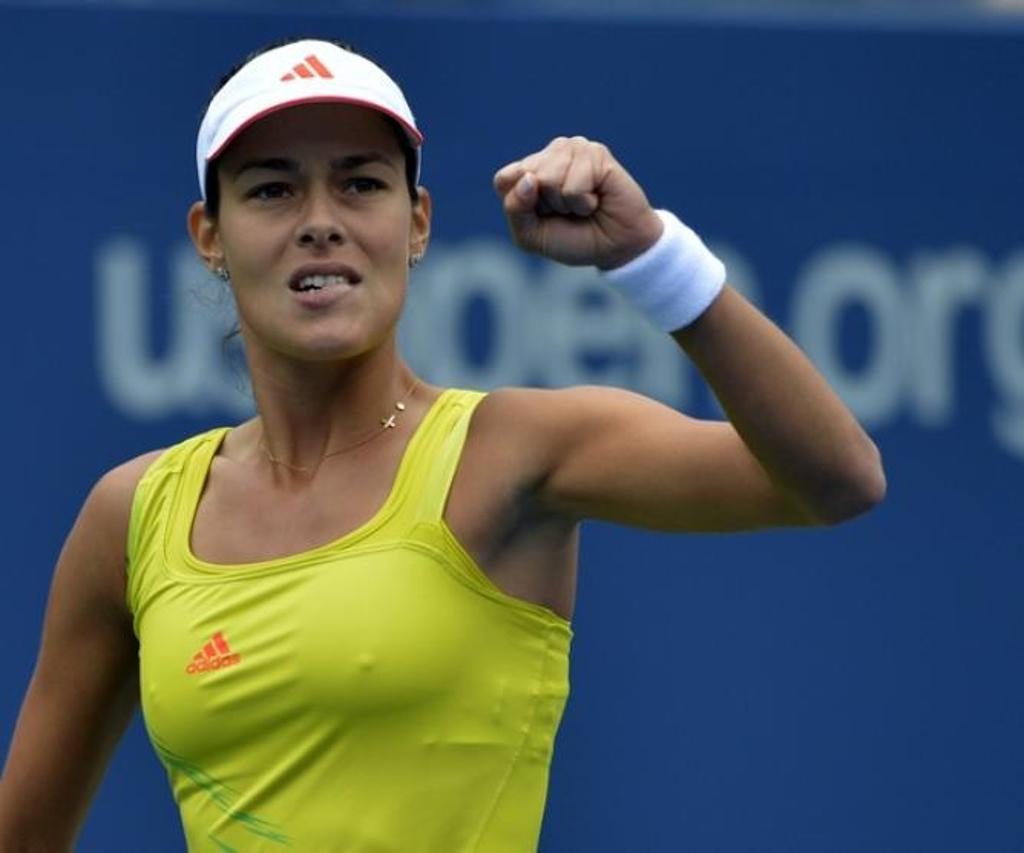face: (221, 99, 411, 363)
